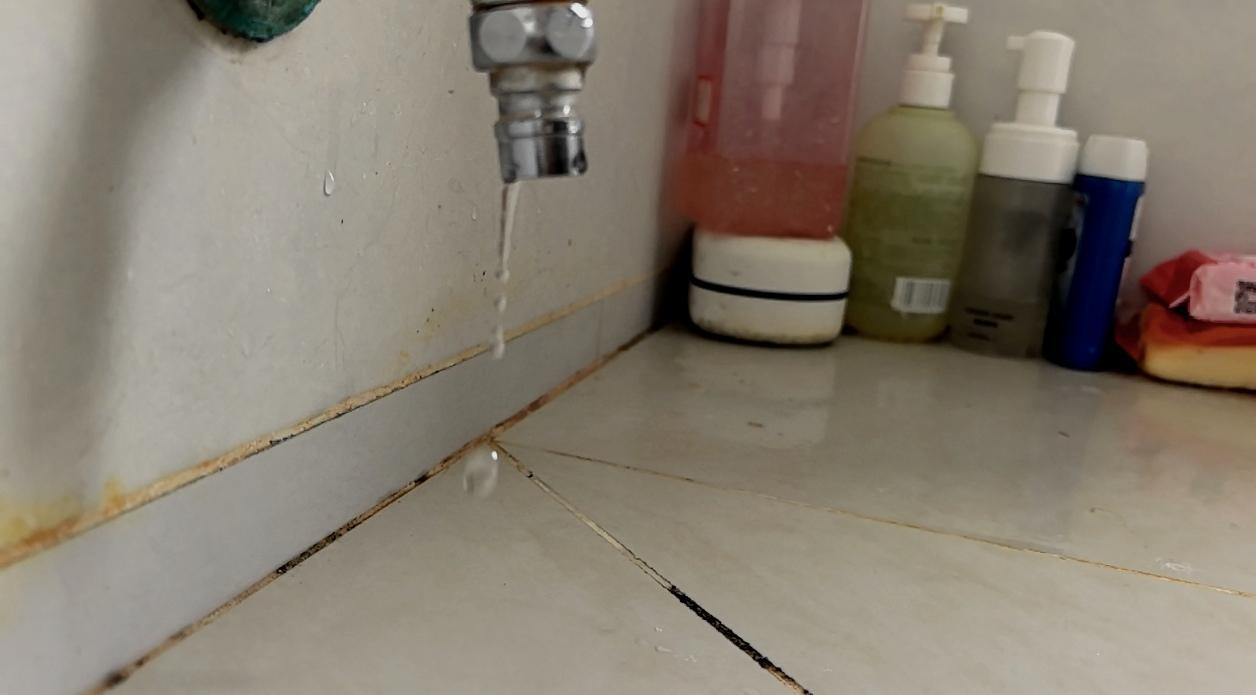water drop: (496, 178, 521, 286), (460, 444, 502, 498), (489, 297, 510, 358)
